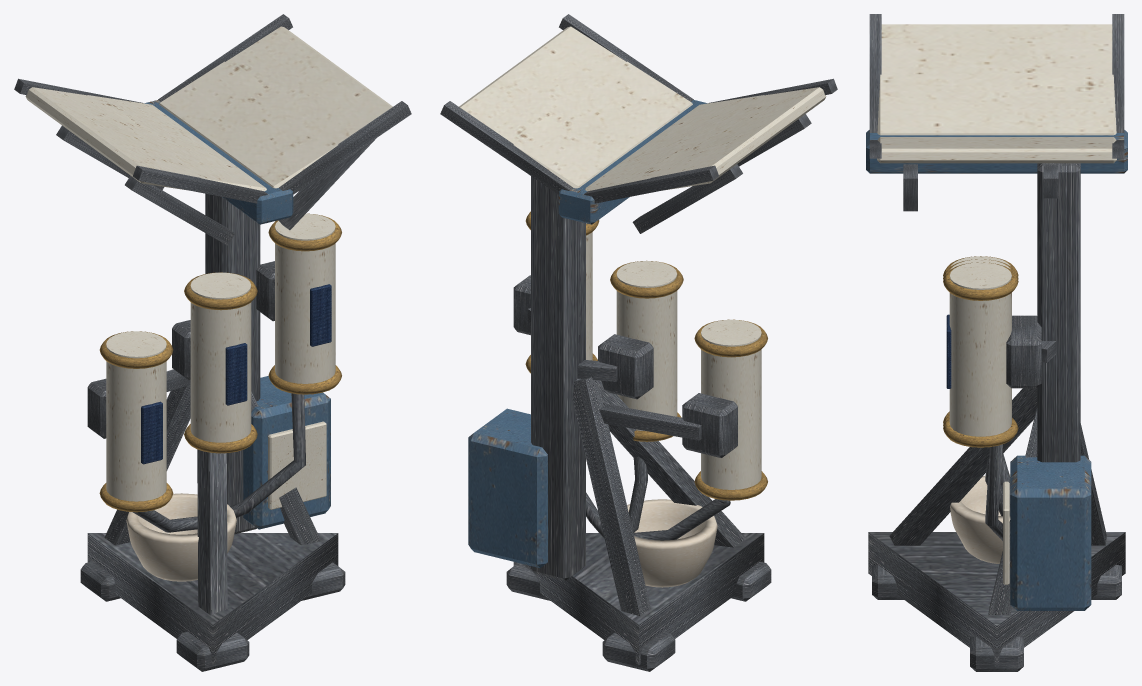
The model's file is 02_终末地参考_物理动漫.glb.
3 views of the same model, side by side, from view 1: azimuth 30°, elevation 25°; view 2: azimuth 150°, elevation 25°; view 3: azimuth 270°, elevation 25° (orthographic). The views are drawn at different scales.
Visible parts, largest first — view 1: rain_tower; view 2: rain_tower; view 3: rain_tower.
Part boxes in pixels (<box>): rain_tower: <box>14,14,411,671</box>; rain_tower: <box>440,14,837,671</box>; rain_tower: <box>866,14,1127,671</box>.
Size of the model in its own units: 1.2 by 2.18 by 0.97.
2 materials, 2 textured.
